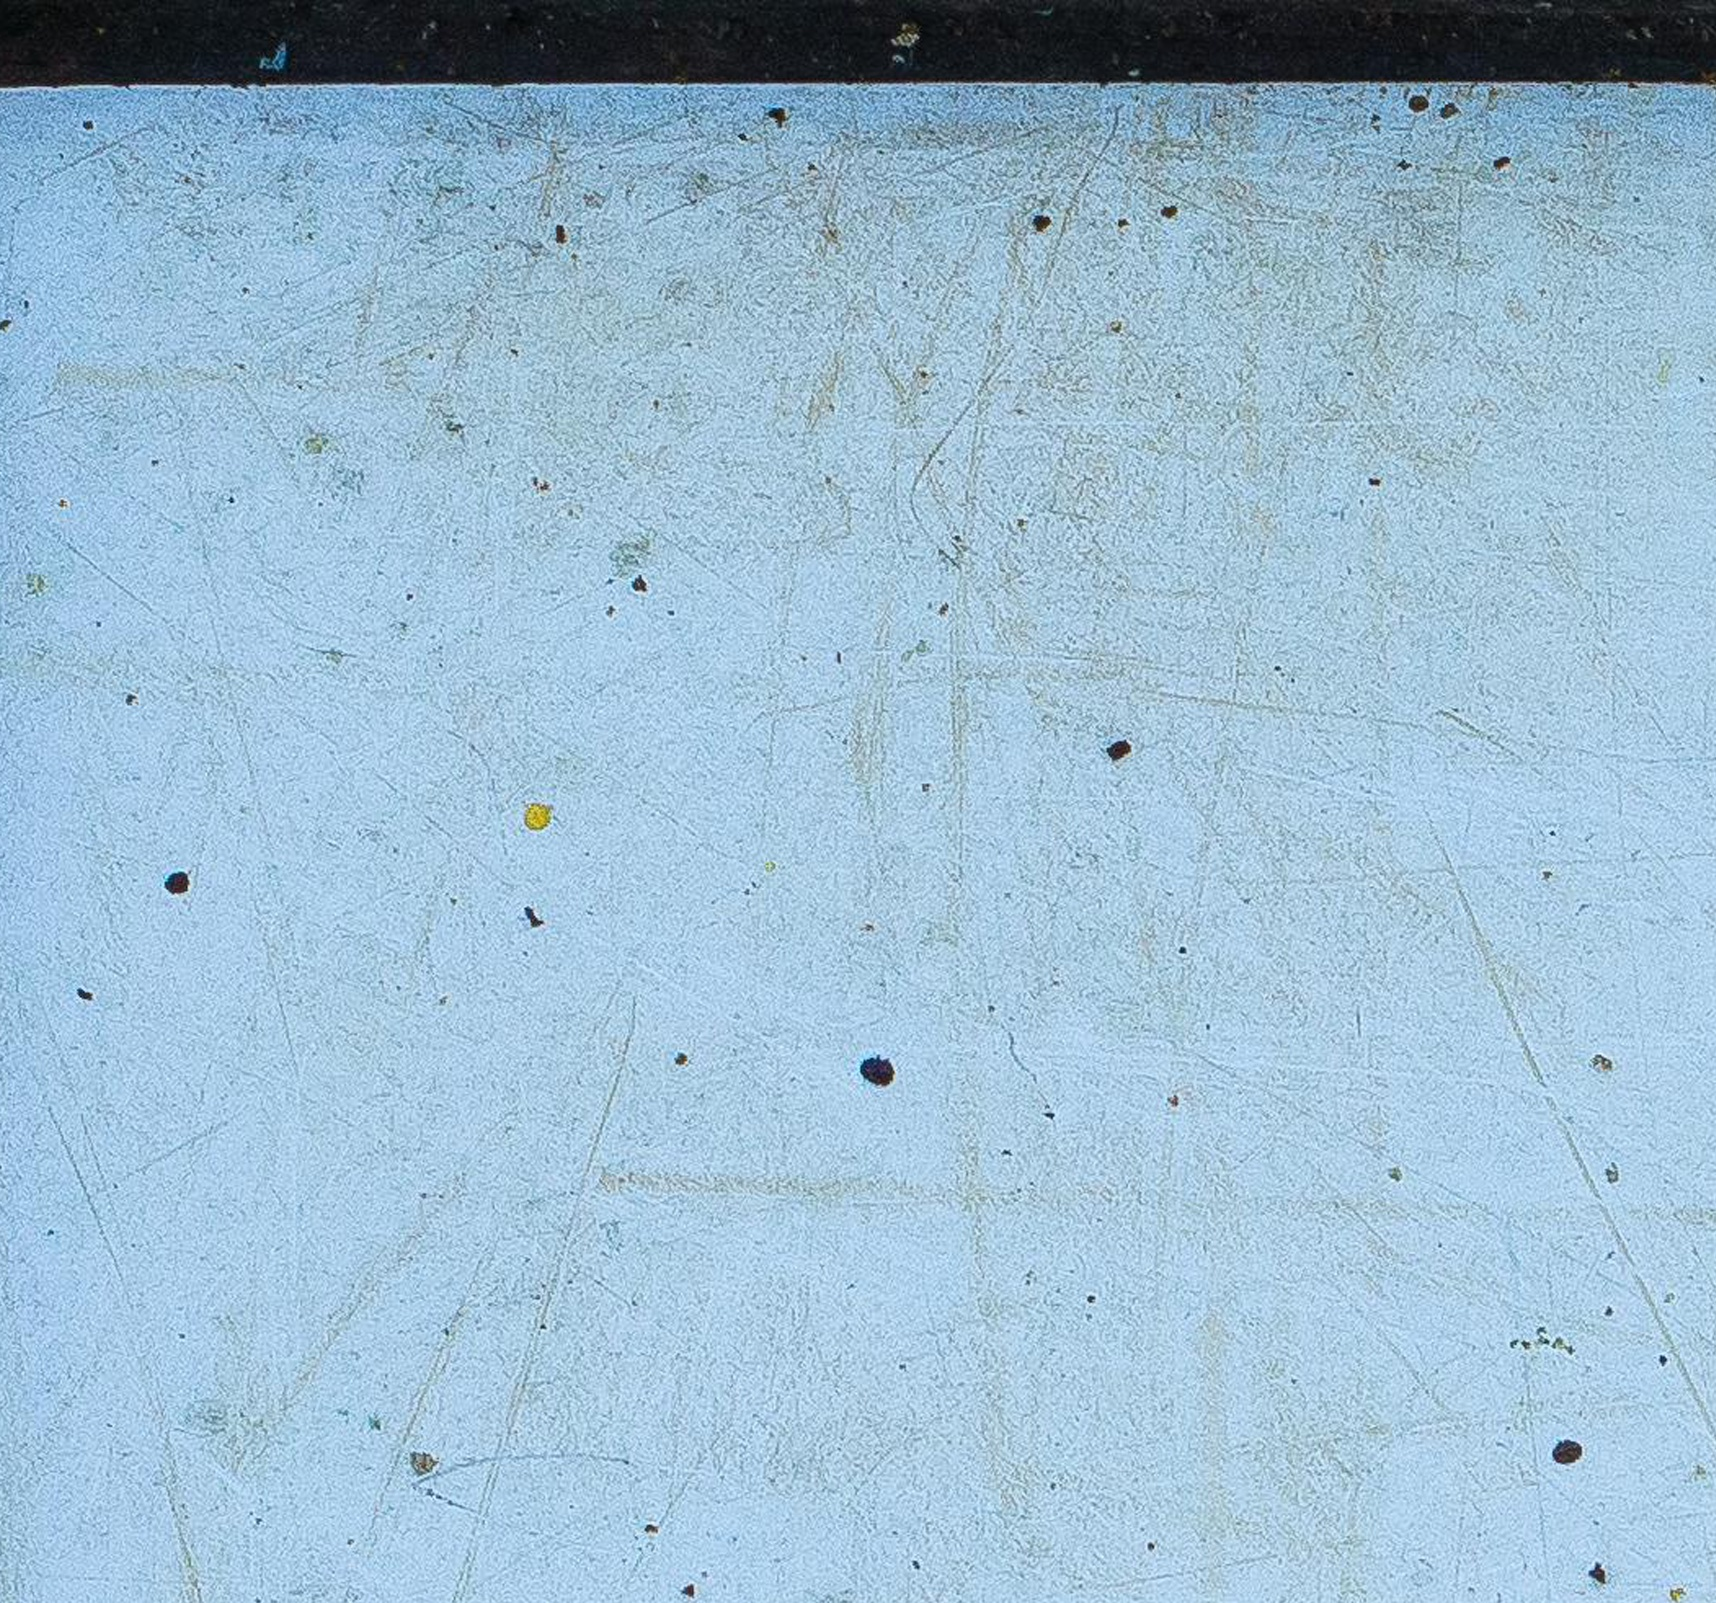Varroa: (1547, 1431, 1592, 1476), (856, 1049, 901, 1092)
